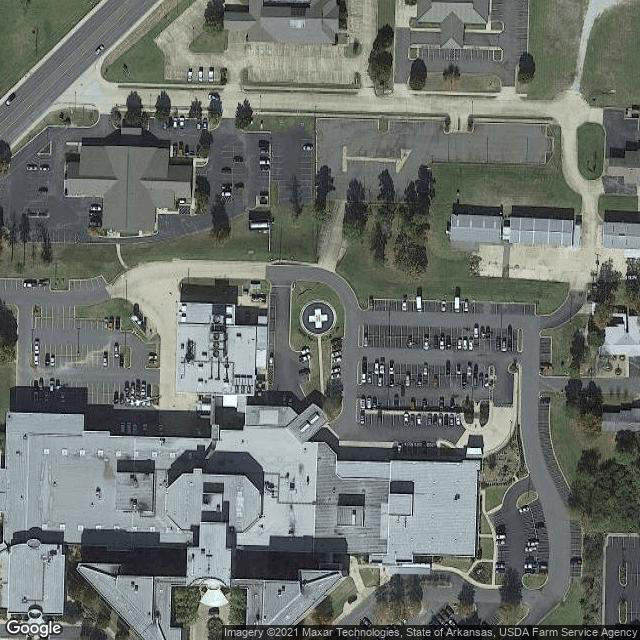Helipad: (296, 297, 337, 335)
